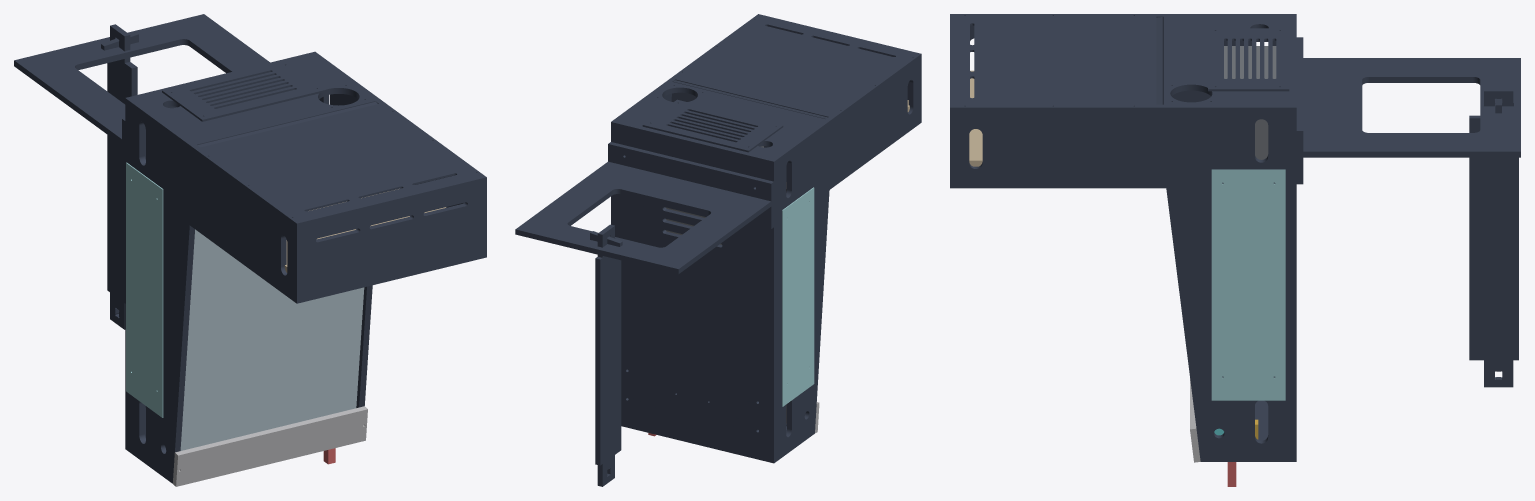
Rendered from cabinet.glb.
3 renders of one model, left to right at view 1: azimuth 30°, elevation 25°; view 2: azimuth 150°, elevation 25°; view 3: azimuth 270°, elevation 25°, orthographic. The views are drawn at different scales.
Visible parts, largest first — view 1: P09 Playfield glass, P25 Backbox back, P21 Backbox top, P01 Body side L, P26 Leg frame plate, P16 Side light panel L, P18 Backbox side L, P11 Lockbar, P06 Body back, P07 Back service cover, P28 Leg stretcher, P02 Body side R (+3 smaller); view 2: P03 Body floor, P25 Backbox back, P26 Leg frame plate, P01 Body side L, P16 Side light panel L, P18 Backbox side L, P28 Leg stretcher, P06 Body back, P07 Back service cover, P27 Leg top plate, P08 Rear deck, P02 Body side R; view 3: P02 Body side R, P25 Backbox back, P17 Side light panel R, P19 Backbox side R, P26 Leg frame plate, P28 Leg stretcher, P06 Body back, P07 Back service cover, Mini-ITX PC (NR200P class, on its side), P27 Leg top plate, P01 Body side L, P08 Rear deck (+2 smaller).
Part boxes in pixels (left/top/right/bottom): P09 Playfield glass: left=180, top=229, right=364, bottom=450; P25 Backbox back: left=194, top=102, right=486, bottom=225; P21 Backbox top: left=300, top=180, right=482, bottom=302; P01 Body side L: left=125, top=96, right=199, bottom=483; P26 Leg frame plate: left=14, top=14, right=269, bottom=144; P16 Side light panel L: left=126, top=162, right=163, bottom=417; P18 Backbox side L: left=190, top=151, right=302, bottom=303; P11 Lockbar: left=172, top=406, right=367, bottom=486; P06 Body back: left=133, top=55, right=376, bottom=144; P07 Back service cover: left=162, top=60, right=325, bottom=121; P28 Leg stretcher: left=107, top=24, right=137, bottom=329; P02 Body side R: left=310, top=51, right=384, bottom=407; P03 Body floor: left=614, top=121, right=771, bottom=461; P25 Backbox back: left=671, top=14, right=921, bottom=119; P26 Leg frame plate: left=515, top=161, right=771, bottom=274; P01 Body side L: left=769, top=117, right=833, bottom=463; P16 Side light panel L: left=782, top=187, right=814, bottom=406; P18 Backbox side L: left=829, top=55, right=921, bottom=189; P28 Leg stretcher: left=595, top=224, right=621, bottom=486; P06 Body back: left=619, top=82, right=825, bottom=158; P07 Back service cover: left=642, top=99, right=783, bottom=152; P27 Leg top plate: left=608, top=142, right=773, bottom=228; P08 Rear deck: left=671, top=80, right=827, bottom=181; P02 Body side R: left=611, top=78, right=675, bottom=236; P02 Body side R: left=1156, top=104, right=1296, bottom=461; P25 Backbox back: left=950, top=14, right=1156, bottom=109; P17 Side light panel R: left=1211, top=169, right=1285, bottom=400; P19 Backbox side R: left=950, top=109, right=1166, bottom=188; P26 Leg frame plate: left=1303, top=58, right=1520, bottom=157; P28 Leg stretcher: left=1469, top=88, right=1518, bottom=387; P06 Body back: left=1164, top=16, right=1289, bottom=105; P07 Back service cover: left=1208, top=28, right=1289, bottom=91; Mini-ITX PC (NR200P class, on its side): left=1224, top=46, right=1276, bottom=159; P27 Leg top plate: left=1296, top=37, right=1303, bottom=184; P01 Body side L: left=1156, top=14, right=1296, bottom=102; P08 Rear deck: left=1156, top=17, right=1172, bottom=104.
Bounding box in the file's own units: 630 × 1161 × 1547.
